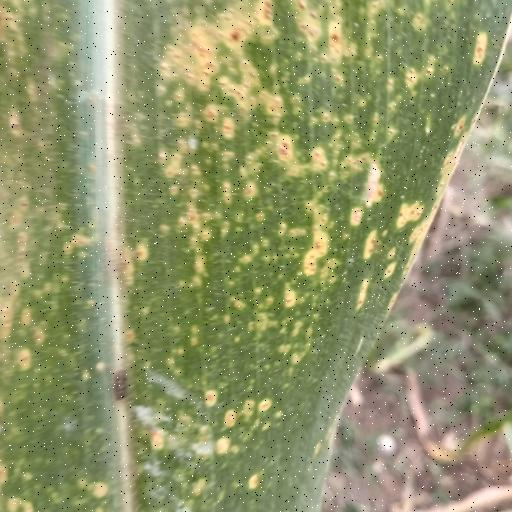Corn_Rust: (0, 0, 506, 512)
